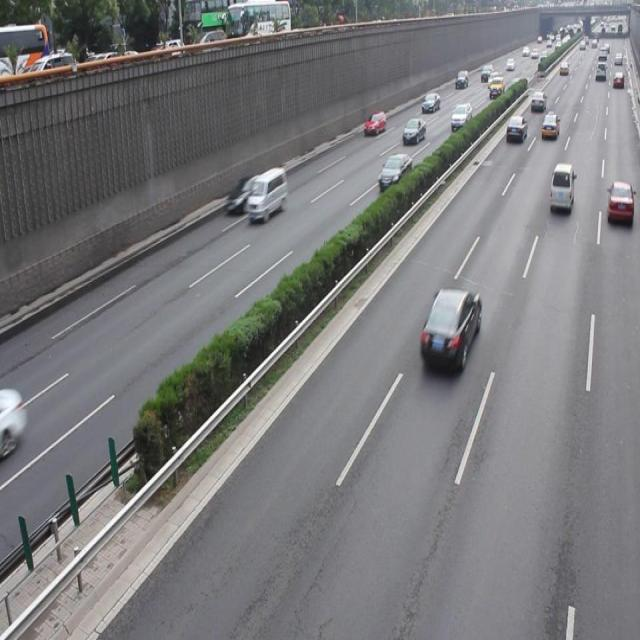car: (419, 286, 480, 371), (376, 152, 411, 192), (225, 173, 258, 215), (605, 181, 633, 226)
truck: (245, 166, 287, 220), (548, 162, 573, 210)
